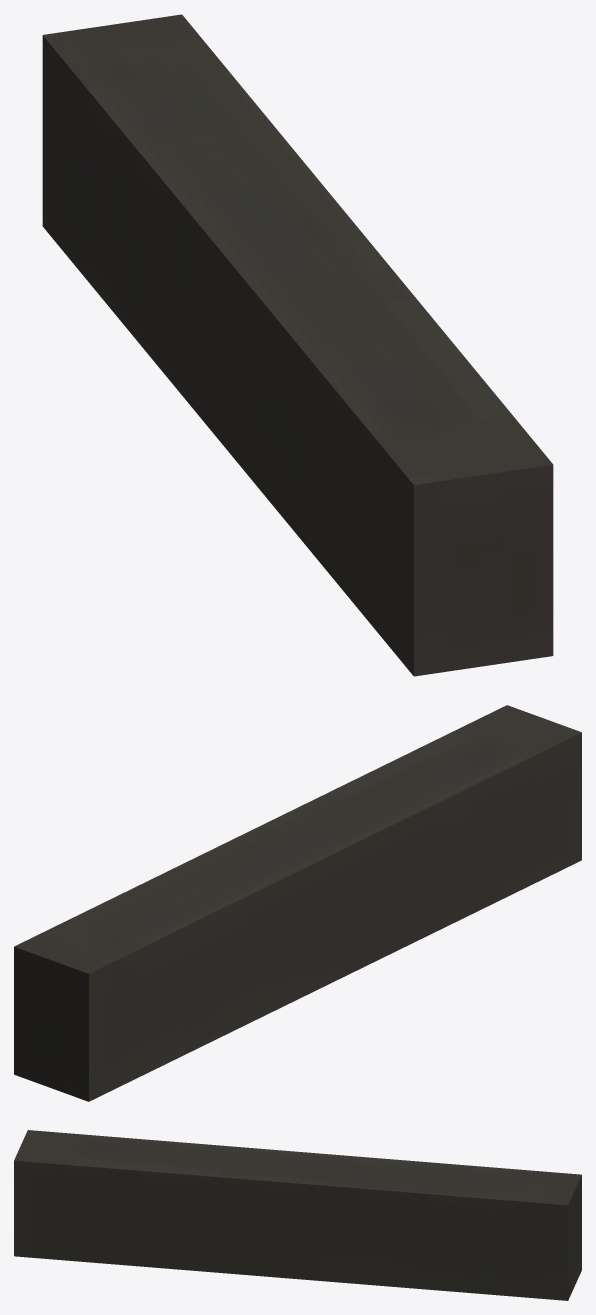
Rendered from support_arm__beam_0.glb.
The picture shows the model from 3 angles, top to bottom: view 1: azimuth 30°, elevation 25°; view 2: azimuth 150°, elevation 25°; view 3: azimuth 270°, elevation 25°; orthographic projection. The views are drawn at different scales.
Visible parts, largest first — view 1: world; view 2: world; view 3: world.
Boxes of the visible parts, <box> form: world: <box>42,14,553,676</box>; world: <box>14,705,581,1101</box>; world: <box>14,1130,581,1300</box>.
Size of the model in its own units: 0.0675 by 0.04 by 0.2152.
1 material, 1 textured.
